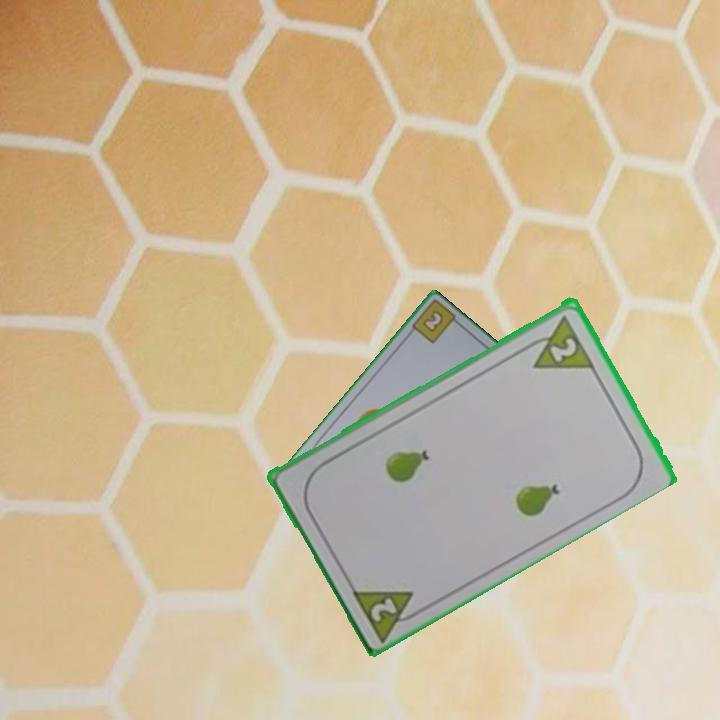2b: (421, 309, 444, 333)
2p: (347, 583, 428, 643), (520, 310, 597, 372)
